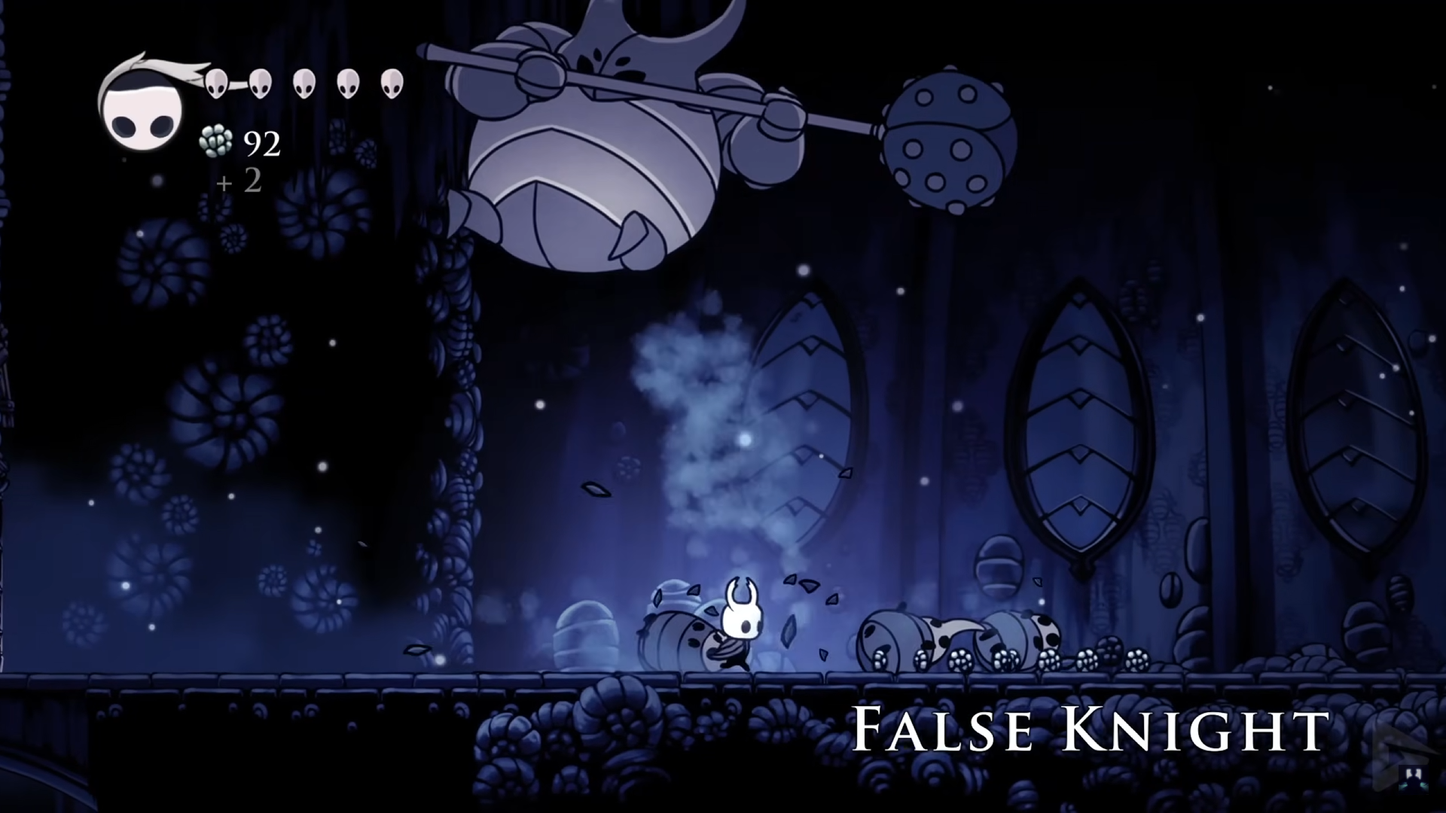HK: (707, 573, 768, 674)
